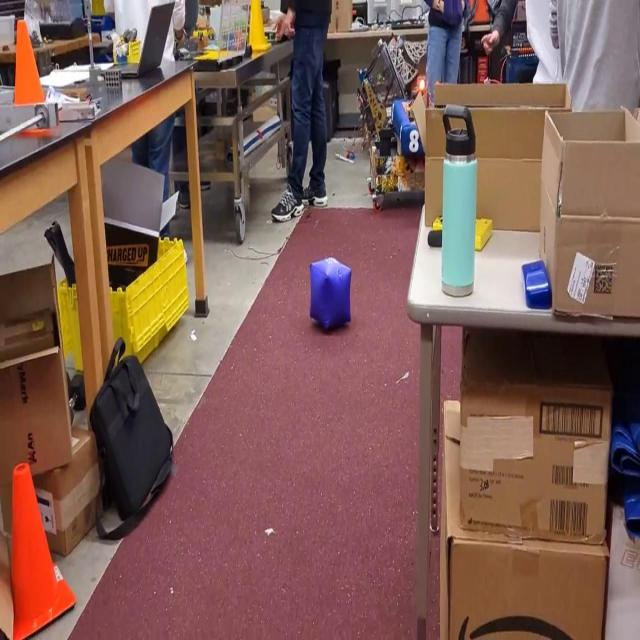frc_cone: (243, 0, 272, 52)
frc_cube: (308, 256, 352, 332)
